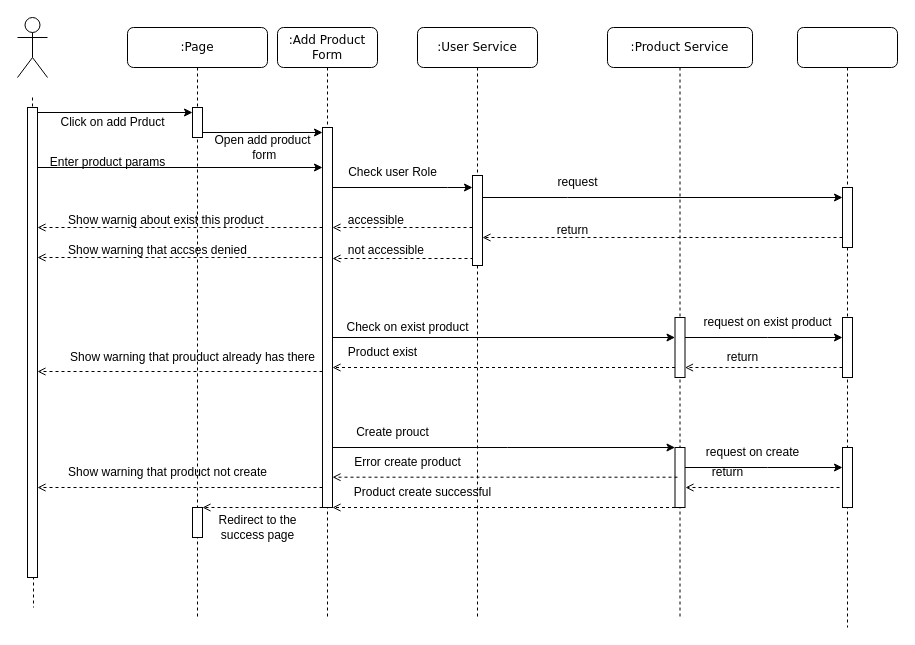
This 915x645 diagram has some shape labels left out. Each missing label, with the centre of its shape:
:Database: (x=847, y=327)
:User: (x=32, y=47)
